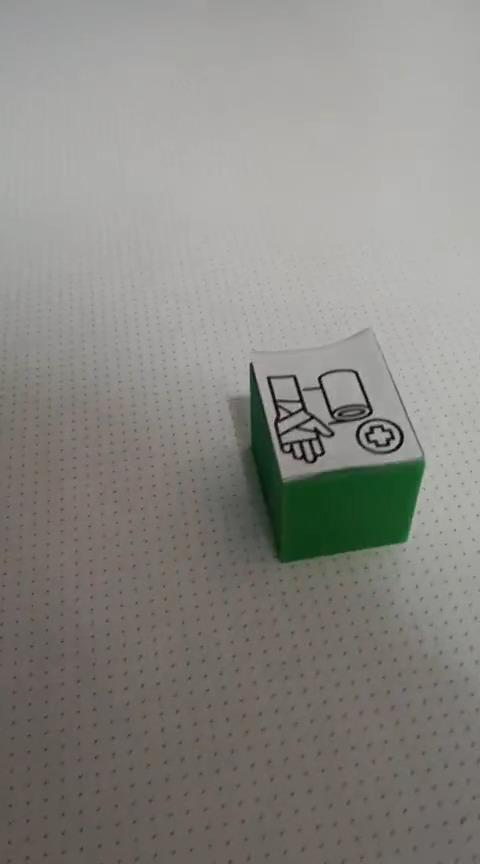Bandages: (246, 325, 425, 563)
